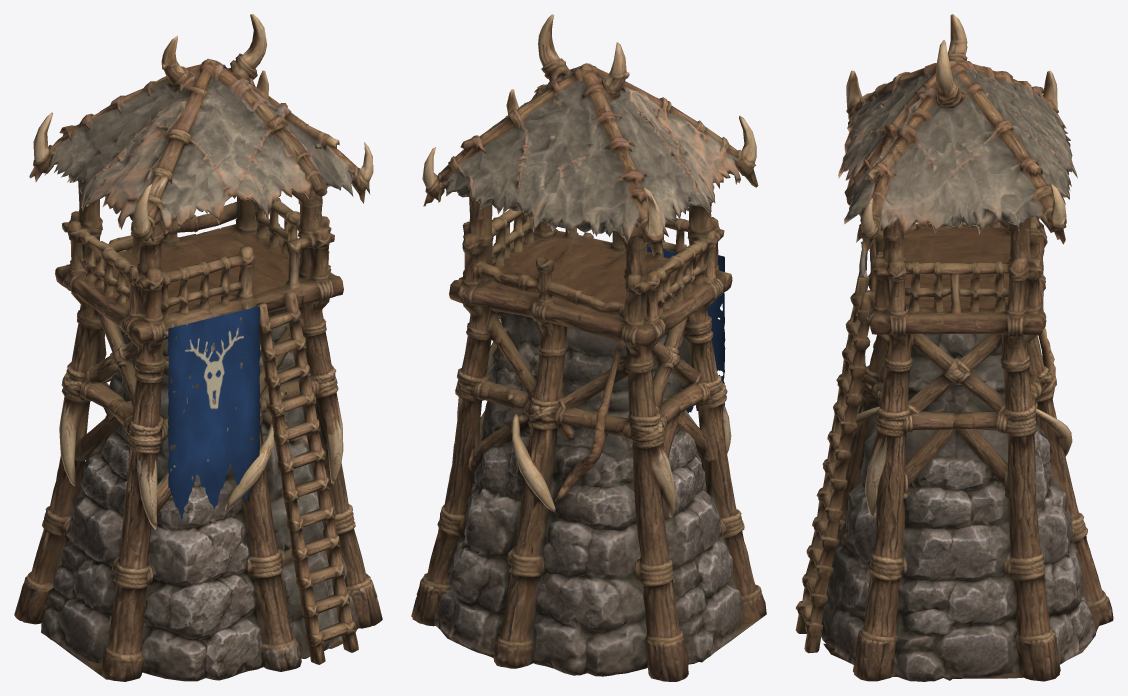
File: SM_Bld_North_Tower.gltf
3 renders of one model, left to right at view 1: azimuth 30°, elevation 25°; view 2: azimuth 150°, elevation 25°; view 3: azimuth 270°, elevation 25°, orthographic. The views are drawn at different scales.
Visible parts, largest first — view 1: SM_Bld_North_Tower; view 2: SM_Bld_North_Tower; view 3: SM_Bld_North_Tower.
Boxes of the visible parts, x1,y1,x2,y2 form: SM_Bld_North_Tower: [14, 14, 382, 681]; SM_Bld_North_Tower: [411, 14, 766, 681]; SM_Bld_North_Tower: [795, 14, 1113, 681].
Size of the model in its own units: 5.39 by 11 by 5.31.
2 materials, 2 textured.
